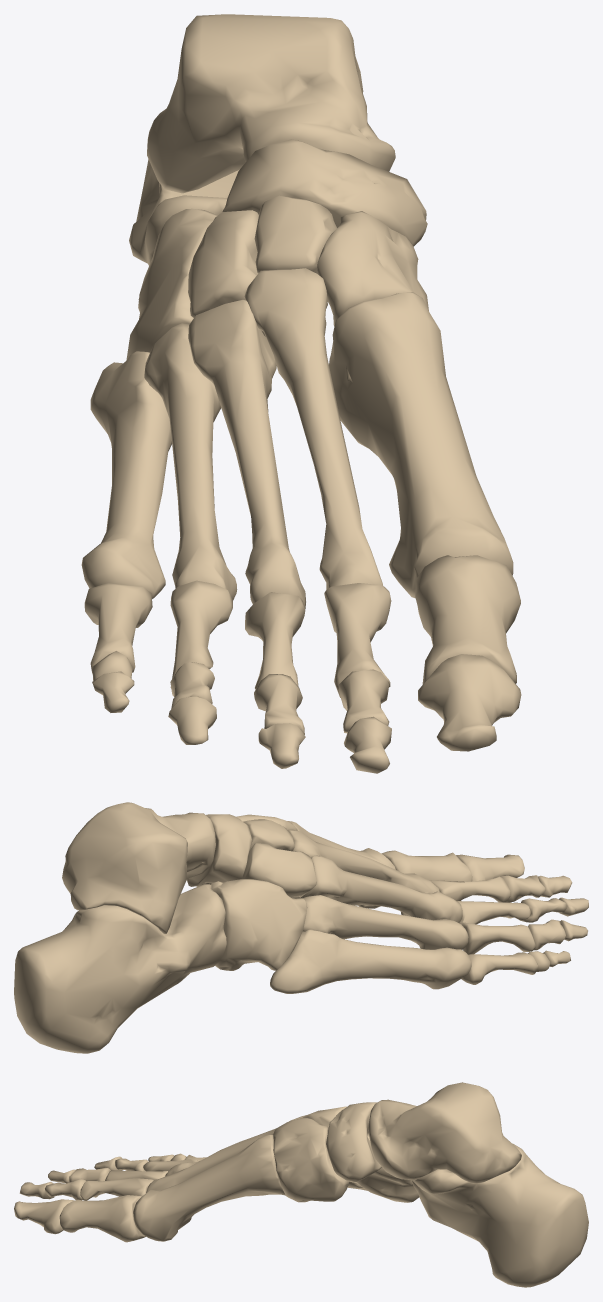
File: foot.glb
3 renders of one model, top to bottom at view 1: azimuth 30°, elevation 25°; view 2: azimuth 150°, elevation 25°; view 3: azimuth 270°, elevation 25°, orthographic. The views are drawn at different scales.
Visible parts, largest first — view 1: foot_phalanges, tarsals, talus, metatarsal_1, metatarsal_2, metatarsal_3, metatarsal_5, metatarsal_4, calcaneus; view 2: calcaneus, talus, tarsals, foot_phalanges, metatarsal_5, metatarsal_4, metatarsal_3, metatarsal_2, metatarsal_1; view 3: calcaneus, talus, tarsals, foot_phalanges, metatarsal_1, metatarsal_2.
Part boxes in pixels (x1,y1,x2,y2): foot_phalanges: (84, 555, 521, 773); tarsals: (126, 139, 428, 360); talus: (147, 14, 395, 193); metatarsal_1: (329, 292, 513, 598); metatarsal_2: (244, 268, 382, 589); metatarsal_3: (188, 300, 305, 608); metatarsal_5: (81, 351, 171, 598); metatarsal_4: (144, 323, 237, 600); calcaneus: (129, 159, 238, 265); calcaneus: (14, 884, 226, 1053); talus: (62, 802, 215, 933); tarsals: (186, 814, 316, 970); foot_phalanges: (381, 850, 588, 984); metatarsal_5: (270, 929, 471, 993); metatarsal_4: (302, 895, 468, 949); metatarsal_3: (291, 855, 462, 922); metatarsal_2: (288, 829, 439, 916); metatarsal_1: (287, 821, 395, 908); calcaneus: (411, 1143, 588, 1287); talus: (368, 1082, 521, 1183); tarsals: (273, 1102, 419, 1202); foot_phalanges: (14, 1153, 206, 1242); metatarsal_1: (133, 1134, 285, 1241); metatarsal_2: (146, 1115, 305, 1192).
Size of the model in its own units: 0.1245 by 0.0736 by 0.2121.
